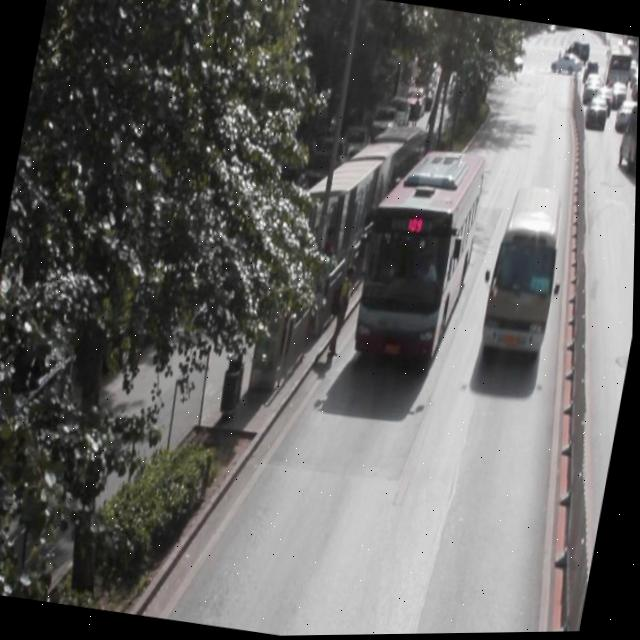truck: (478, 181, 571, 357)
van: (351, 139, 487, 365)
